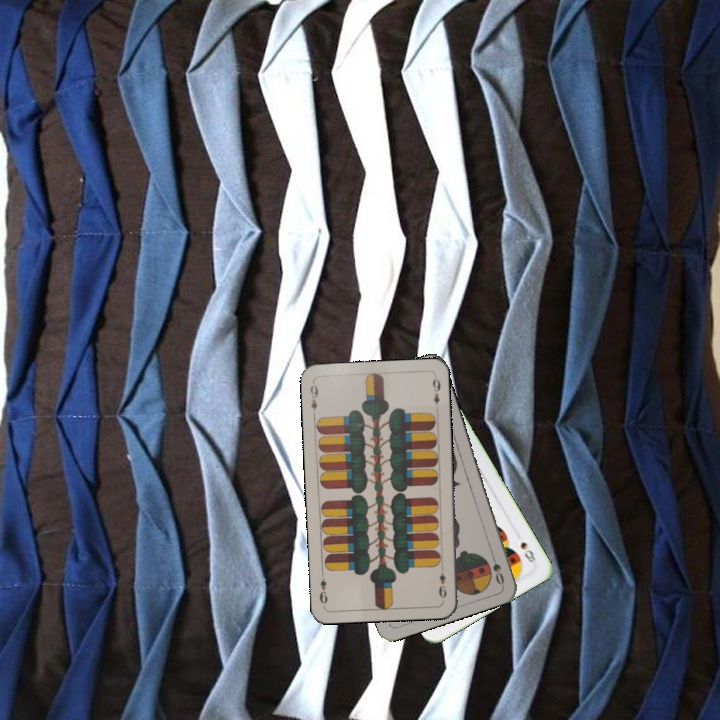E9: (306, 379, 321, 419), (435, 569, 449, 600)
S8: (516, 537, 539, 565)
SO: (487, 548, 507, 588)
